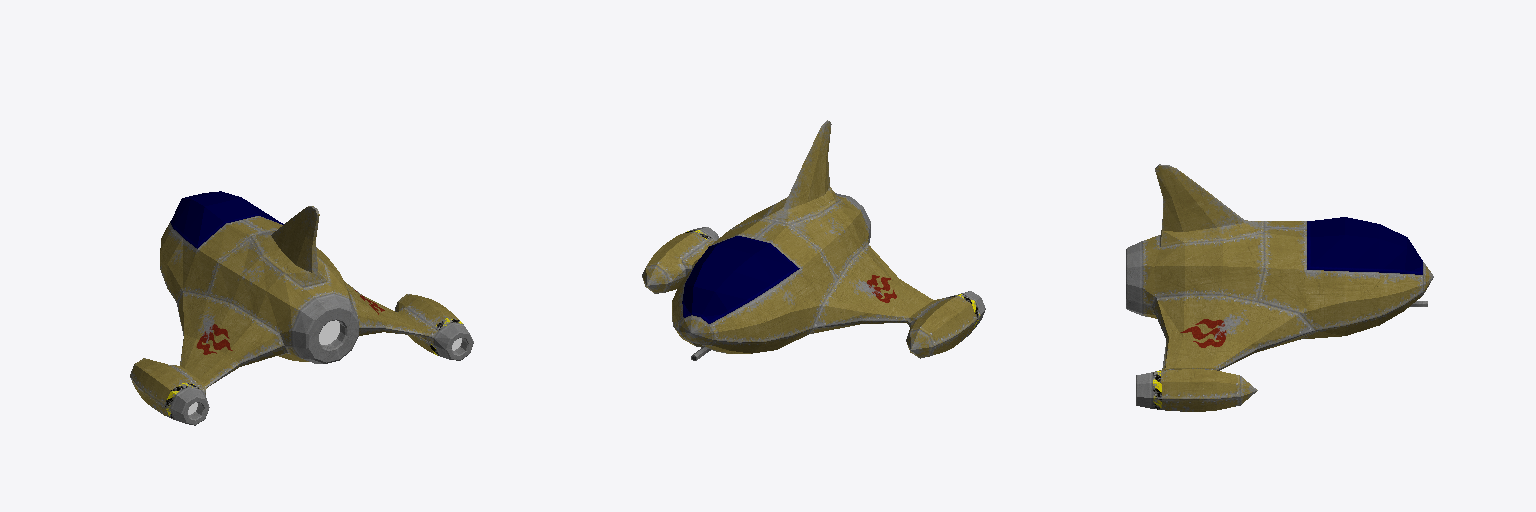
3 views of the same model, side by side, from view 1: azimuth 30°, elevation 25°; view 2: azimuth 150°, elevation 25°; view 3: azimuth 270°, elevation 25° (orthographic).
Parts seen in each view (by area): view 1: plane; view 2: plane; view 3: plane.
Part boxes in pixels (x1,y1,x2,y2): plane: (130,191,473,425); plane: (642,120,985,360); plane: (1126,164,1433,411).
Size of the model in its own units: 3.74 by 2.14 by 3.28.
1 materials, 1 textured.